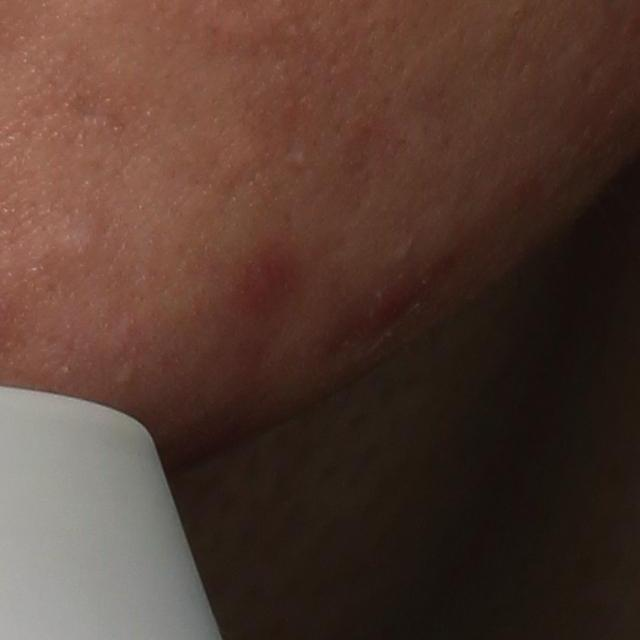comedo: (55, 224, 106, 265), (290, 151, 309, 169)
papule: (351, 274, 421, 338)
